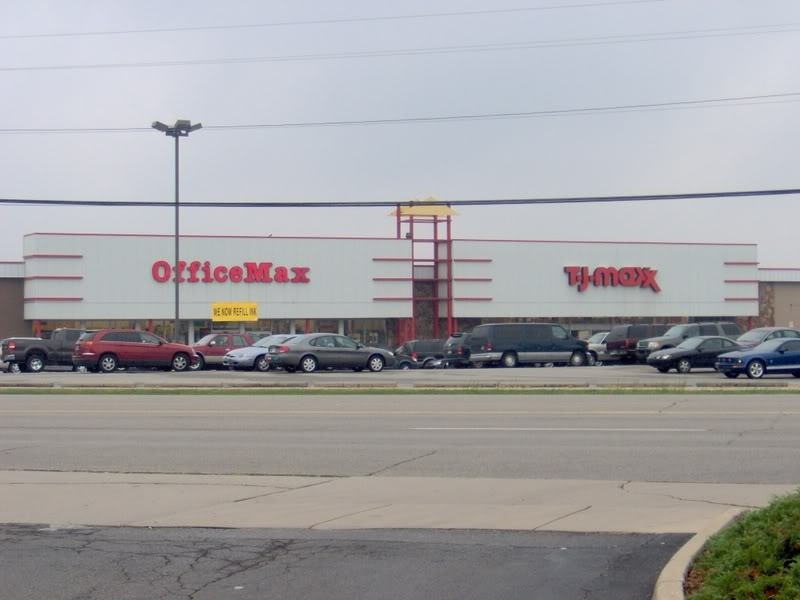text: (577, 265, 592, 294), (593, 265, 608, 294), (609, 265, 624, 294), (625, 265, 640, 294), (641, 265, 656, 294), (161, 260, 176, 285), (177, 260, 192, 285), (193, 260, 208, 285), (209, 260, 224, 285), (225, 260, 240, 285), (241, 260, 256, 285), (257, 260, 272, 285), (273, 260, 288, 285), (289, 260, 304, 285), (564, 265, 576, 294), (152, 260, 160, 285), (225, 307, 240, 319), (241, 307, 255, 319), (211, 307, 224, 319), (305, 260, 311, 285), (657, 265, 662, 294)
